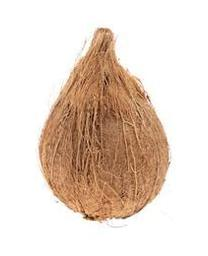coconut: (37, 27, 171, 221)
